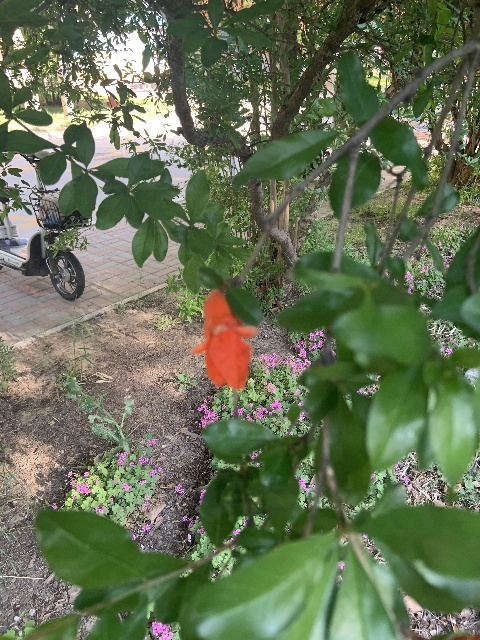flower: (189, 289, 259, 390)
